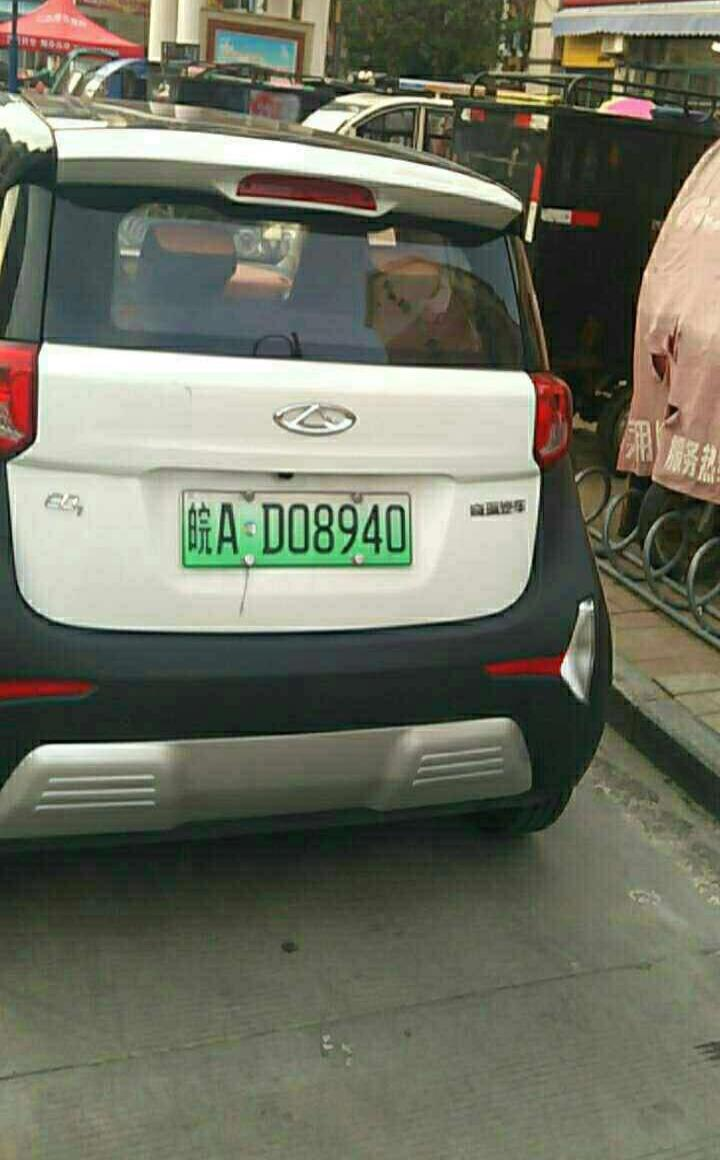car_id: (181, 491, 412, 569)
